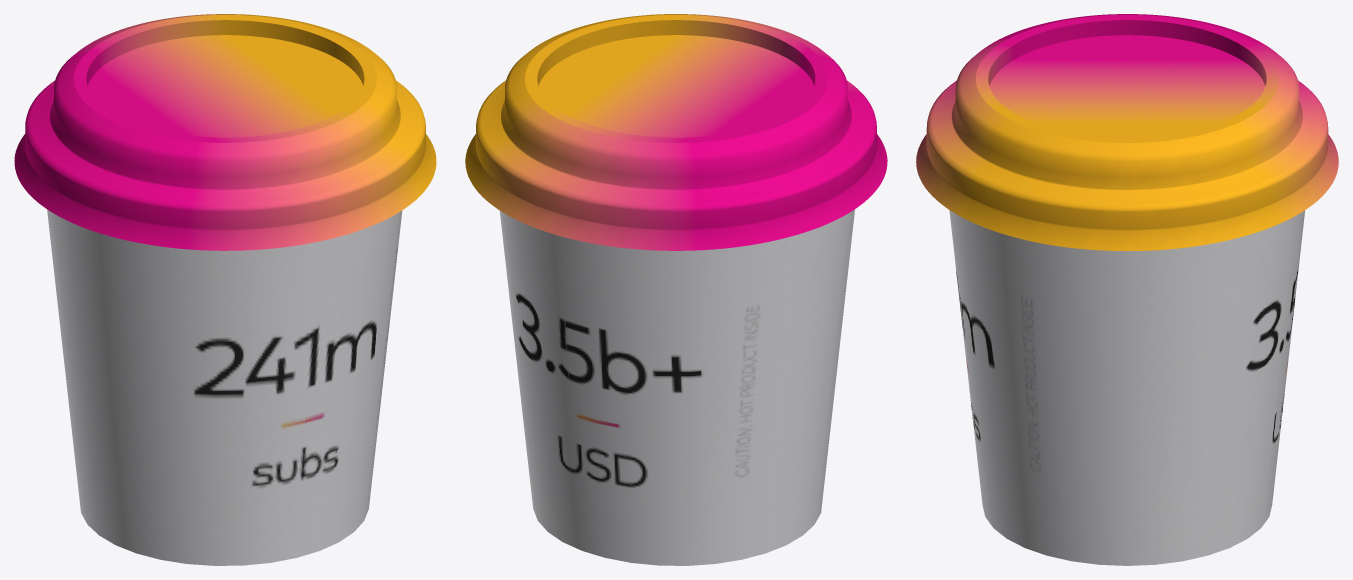
Rendered from espresso-compresso-5.glb.
3 views of the same model, side by side, from view 1: azimuth 30°, elevation 25°; view 2: azimuth 150°, elevation 25°; view 3: azimuth 270°, elevation 25° (orthographic).
Parts seen in each view (by area): view 1: Cylinder.010, Cylinder.008; view 2: Cylinder.010, Cylinder.008; view 3: Cylinder.010, Cylinder.008.
Part boxes in pixels (box(x1,y1,x2,y2)): Cylinder.010: box(47, 209, 402, 565); Cylinder.008: box(14, 14, 436, 250); Cylinder.010: box(499, 209, 854, 565); Cylinder.008: box(465, 14, 887, 250); Cylinder.010: box(949, 210, 1305, 565); Cylinder.008: box(916, 14, 1338, 251).
Bounding box in the file's own units: 2.21 × 2.46 × 2.21.
2 materials, 2 textured.
